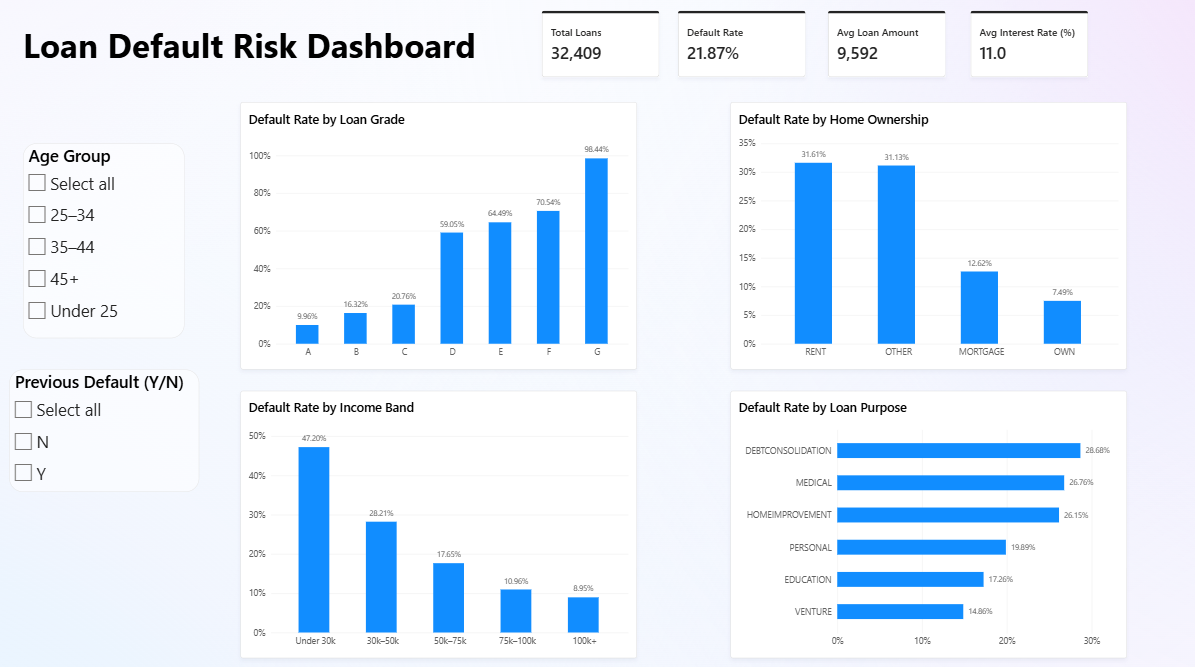

The dashboard page shown, as its layout file describes it:
{"tool":"powerbi","page":{"name":"Page 2","canvas":[1920,1080],"ordinal":1},"visuals":[{"type":"cardVisual","fields":{"Data":["credit_risk_dataset.Default Rate"]},"box":[1087.6,21.2,204,106],"z":0},{"type":"cardVisual","fields":{"Data":["credit_risk_dataset.Avg Loan Amount"]},"box":[1327.6,21.2,188,106],"z":1000},{"type":"cardVisual","fields":{"Data":["credit_risk_dataset.Avg Interest Rate"]},"box":[1555.6,21.2,188,106],"z":2000},{"type":"clusteredColumnChart","title":"Default Rate by Loan Grade","fields":{"Category":["credit_risk_dataset.loan_grade"],"Y":["credit_risk_dataset.Default Rate"]},"box":[388,168,634,428],"z":3000},{"type":"clusteredColumnChart","title":"Default Rate by Income Band","fields":{"Category":["credit_risk_dataset.Income Band"],"Y":["credit_risk_dataset.Default Rate"]},"box":[388,630,634,428],"z":4000},{"type":"clusteredColumnChart","title":"Default Rate by Home Ownership","fields":{"Category":["credit_risk_dataset.person_home_ownership"],"Y":["credit_risk_dataset.Default Rate"]},"box":[1172,168,634,428],"z":5000},{"type":"clusteredBarChart","title":"Default Rate by Loan Purpose","fields":{"Category":["credit_risk_dataset.loan_intent"],"Y":["credit_risk_dataset.Default Rate"]},"box":[1172,630,634,428],"z":6000},{"type":"slicer","fields":{"Values":["credit_risk_dataset.Age Group"]},"box":[40,234,258,312],"z":7000},{"type":"slicer","fields":{"Values":["credit_risk_dataset.cb_person_default_on_file"]},"box":[18,596,304,196],"z":8000},{"type":"textbox","box":[40,40,750,82],"z":9000},{"type":"cardVisual","fields":{"Data":["credit_risk_dataset.Total Loans"]},"box":[869.6,21.2,188,106],"z":10000}]}

Visuals, with their boxes in screenshot pixels (x1, y1, x2, y2), scaled from the page's 1920x1080 canvas onto the 1195x667 screenshot:
cardVisual - credit_risk_dataset.Default Rate: 677/13/804/79
cardVisual - credit_risk_dataset.Avg Loan Amount: 826/13/943/79
cardVisual - credit_risk_dataset.Avg Interest Rate: 968/13/1085/79
"Default Rate by Loan Grade" clusteredColumnChart: 241/104/636/368
"Default Rate by Income Band" clusteredColumnChart: 241/389/636/653
"Default Rate by Home Ownership" clusteredColumnChart: 729/104/1124/368
"Default Rate by Loan Purpose" clusteredBarChart: 729/389/1124/653
slicer - credit_risk_dataset.Age Group: 25/145/185/337
slicer - credit_risk_dataset.cb_person_default_on_file: 11/368/200/489
textbox: 25/25/492/75
cardVisual - credit_risk_dataset.Total Loans: 541/13/658/79
